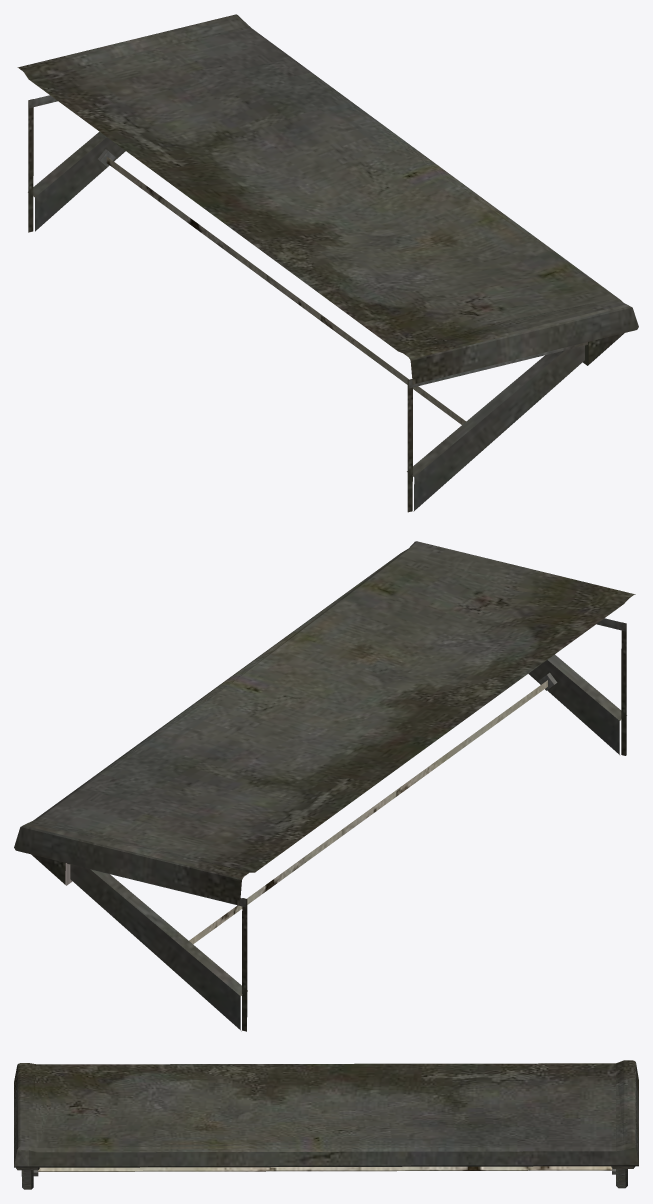
Rendered from prison_metalbed001a.glb.
3 views of the same model, one above another, from view 1: azimuth 30°, elevation 25°; view 2: azimuth 150°, elevation 25°; view 3: azimuth 270°, elevation 25° (orthographic). The views are drawn at different scales.
Parts seen in each view (by area): view 1: 0_prison_objects002; view 2: 0_prison_objects002; view 3: 0_prison_objects002.
Boxes of the visible parts, x1,y1,x2,y2 form: 0_prison_objects002: [17, 14, 638, 512]; 0_prison_objects002: [14, 541, 635, 1031]; 0_prison_objects002: [14, 1060, 638, 1189].
Size of the model in its own units: 0.6667 by 0.452 by 2.02.
Materials: 1 (1 with a texture image).
